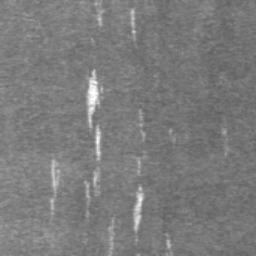White rust: (87, 68, 99, 128), (49, 160, 58, 211), (133, 193, 143, 231), (95, 126, 101, 158), (130, 9, 136, 34), (93, 170, 98, 186)
